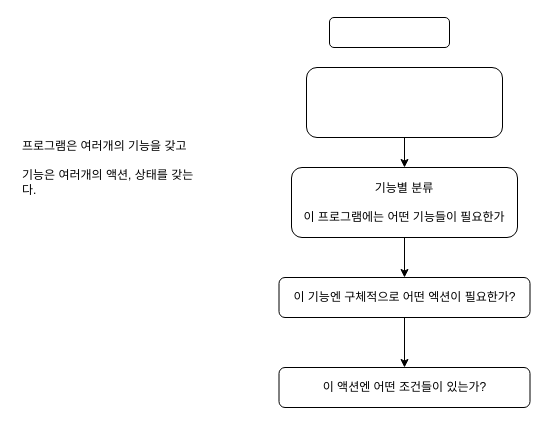
Some shapes in this 547 by 425 pixel diagram are drawn without their labels. Here are the shapes that lost their labels. From the top down, the box of each, then its label:
(328, 16, 450, 48): 프로그램 개발 순서
(306, 66, 502, 138): 어떤 문제를 해결하고자 하는가? 어떤 프로그램을 만들 것인가?
